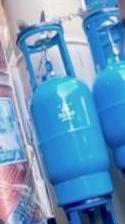cylinder: (1, 0, 125, 224)
